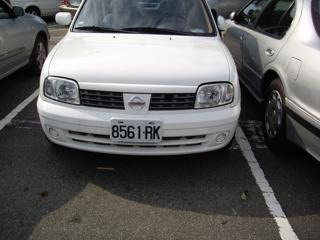plate: (109, 116, 163, 144)
